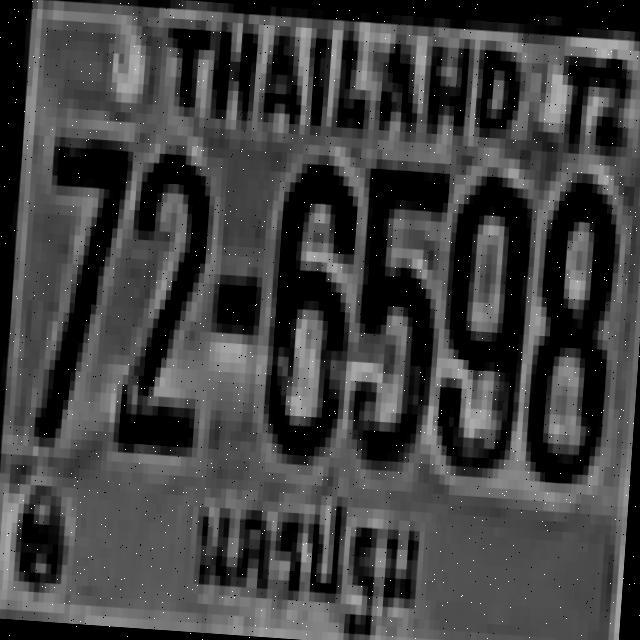2: (110, 142, 210, 447)
5: (345, 158, 445, 463)
6: (260, 152, 356, 457)
7: (28, 126, 129, 441)
8: (519, 170, 614, 475)
9: (429, 164, 529, 469)
NakhonPathom: (180, 472, 435, 640)
